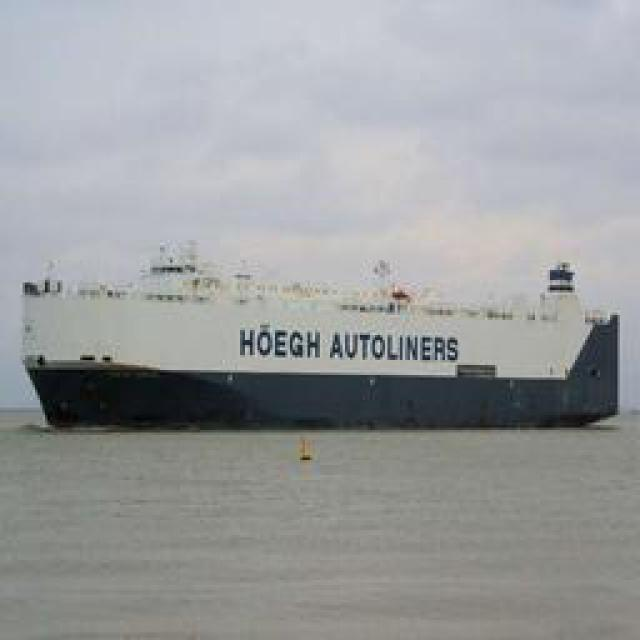Ship: (14, 226, 617, 439)
